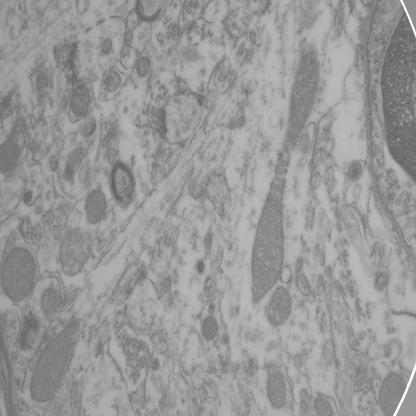mitochondria: (248, 41, 331, 306), (28, 319, 83, 407), (1, 242, 38, 306), (0, 110, 30, 177), (58, 227, 94, 280), (266, 285, 295, 330), (263, 366, 290, 412), (80, 186, 110, 227), (68, 80, 93, 122), (199, 314, 219, 346), (136, 52, 153, 82)
